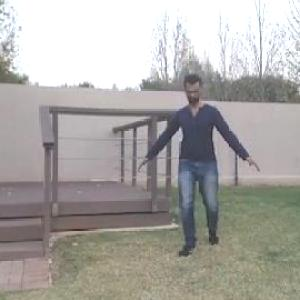land: (133, 66, 249, 268)
